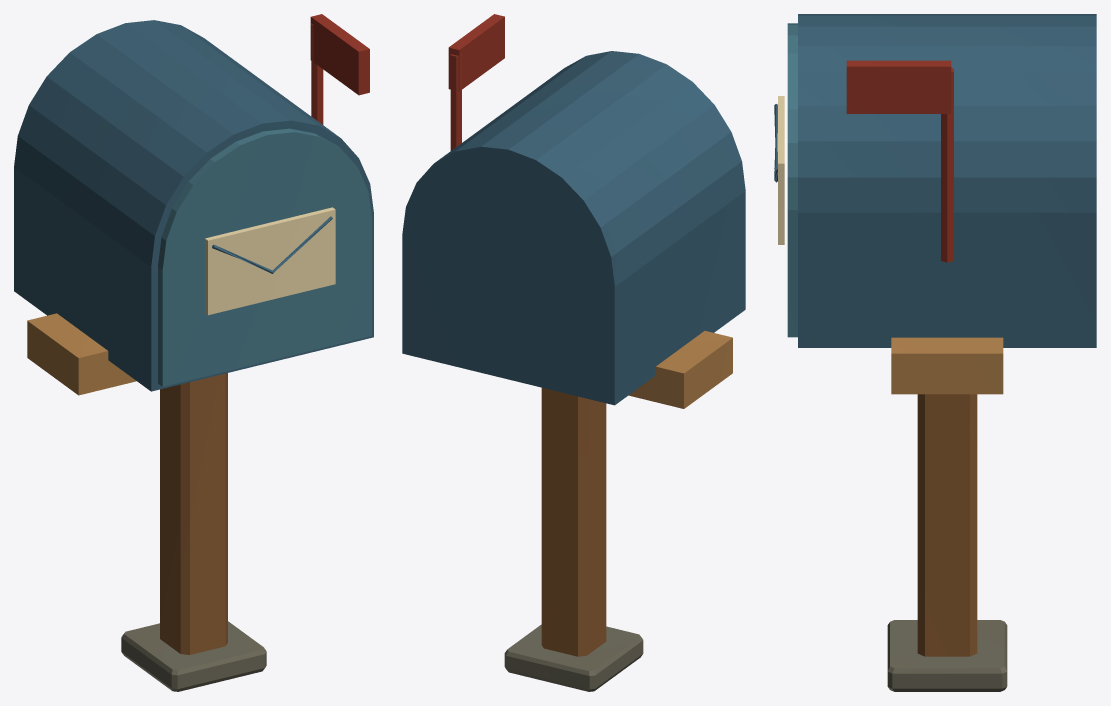
File: Prop_Rural_Mailbox_001.glb
The picture shows the model from 3 angles, left to right: view 1: azimuth 30°, elevation 25°; view 2: azimuth 150°, elevation 25°; view 3: azimuth 270°, elevation 25°; orthographic projection. The views are drawn at different scales.
Visible parts, largest first — view 1: RU_Mailbox_Body; view 2: RU_Mailbox_Body; view 3: RU_Mailbox_Body.
Part boxes in pixels (x1,y1,x2,y2): RU_Mailbox_Body: (14,14,373,691); RU_Mailbox_Body: (402,14,745,691); RU_Mailbox_Body: (774,14,1096,691).
Size of the model in its own units: 0.95 by 1.98 by 0.864.
